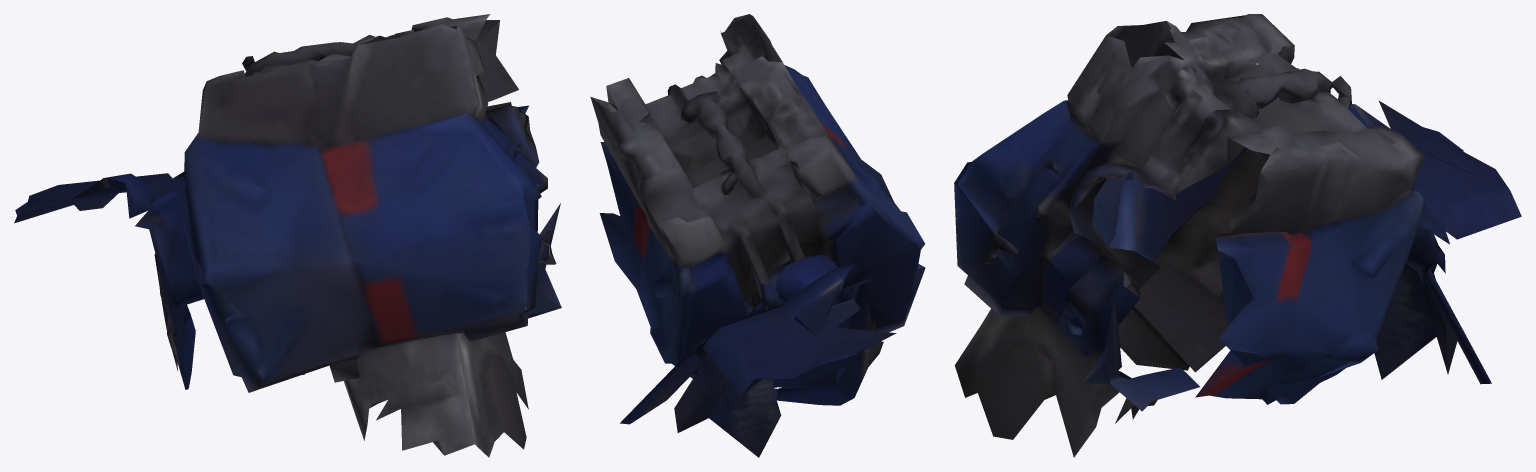
The model's file is blue_head.glb.
3 renders of one model, left to right at view 1: azimuth 30°, elevation 25°; view 2: azimuth 150°, elevation 25°; view 3: azimuth 270°, elevation 25°, orthographic. The views are drawn at different scales.
Visible parts, largest first — view 1: blue_head; view 2: blue_head; view 3: blue_head.
Part boxes in pixels (x1,y1,x2,y2): blue_head: [14, 14, 561, 457]; blue_head: [590, 14, 925, 457]; blue_head: [954, 14, 1521, 457].
Bounding box in the file's own units: 1.34 × 1.2 × 1.46.
1 material, 1 textured.
